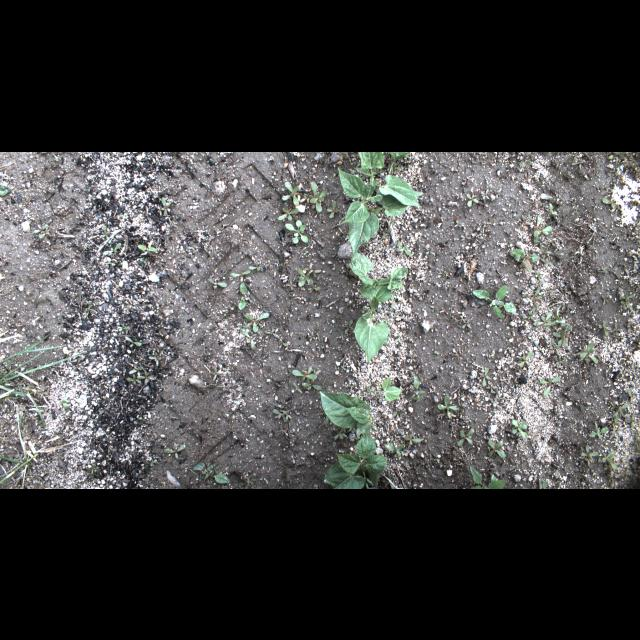crop: (337, 167, 423, 256), (348, 250, 410, 362), (323, 434, 387, 488), (356, 152, 420, 206), (321, 392, 373, 438), (365, 375, 401, 401)
weed: (0, 324, 86, 430), (472, 284, 516, 318), (0, 452, 38, 483), (192, 460, 230, 484), (298, 180, 326, 212), (470, 464, 506, 488), (508, 248, 542, 272), (528, 214, 554, 242), (544, 310, 574, 330), (284, 219, 308, 243), (241, 312, 269, 332), (408, 374, 427, 402), (280, 180, 300, 206), (437, 396, 457, 420), (598, 450, 622, 470), (579, 341, 599, 364), (540, 375, 560, 397), (163, 442, 185, 461), (0, 454, 34, 466), (552, 328, 572, 348), (295, 265, 313, 287), (588, 422, 610, 440), (386, 152, 414, 166), (527, 285, 543, 309), (240, 328, 258, 349), (511, 419, 529, 439), (488, 438, 506, 458), (580, 442, 598, 462), (611, 401, 631, 419), (137, 239, 159, 255), (206, 274, 228, 290), (238, 282, 250, 310), (457, 428, 475, 446), (278, 204, 298, 220), (533, 310, 553, 326), (302, 378, 322, 392), (602, 195, 622, 209), (229, 270, 251, 282), (137, 371, 157, 384), (292, 369, 318, 379), (128, 365, 144, 381), (332, 424, 348, 440), (397, 240, 413, 256), (98, 225, 112, 243), (519, 351, 533, 369), (385, 444, 405, 456), (402, 432, 422, 444), (478, 366, 490, 386), (148, 354, 164, 368), (272, 408, 288, 422), (161, 194, 171, 216), (103, 242, 121, 254), (124, 335, 142, 347), (610, 320, 622, 338), (326, 201, 339, 217), (598, 318, 608, 338), (262, 327, 280, 338), (116, 322, 132, 334), (344, 318, 356, 334), (296, 194, 306, 212), (305, 366, 315, 384), (290, 382, 304, 394), (248, 262, 264, 272), (551, 339, 561, 355), (552, 355, 568, 365), (466, 192, 478, 205), (546, 202, 558, 214), (612, 417, 620, 435), (461, 316, 472, 329), (34, 223, 48, 233), (127, 374, 141, 384), (307, 280, 321, 290), (490, 387, 502, 398), (38, 228, 51, 238), (480, 188, 490, 200), (526, 310, 538, 320), (0, 184, 10, 196), (276, 338, 290, 346), (633, 433, 639, 451), (522, 214, 532, 224), (157, 204, 165, 216), (630, 412, 636, 428), (284, 410, 292, 420), (539, 478, 547, 488), (62, 396, 68, 408)
